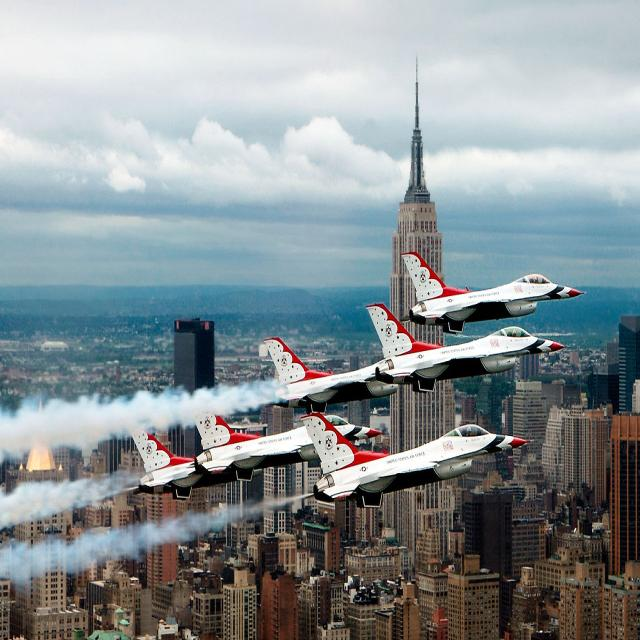MIL_Plane: (300, 398, 532, 522), (398, 251, 588, 335), (190, 405, 385, 483), (365, 312, 571, 382), (263, 336, 398, 414), (127, 424, 263, 500)
